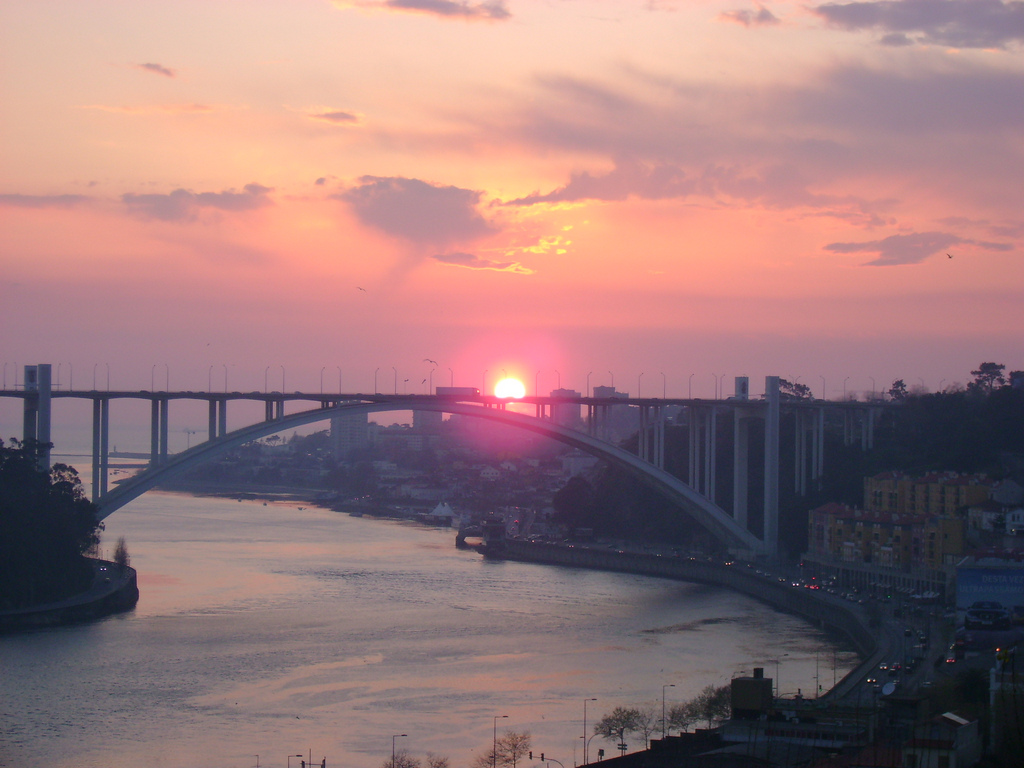arrabida: (0, 359, 918, 564)
